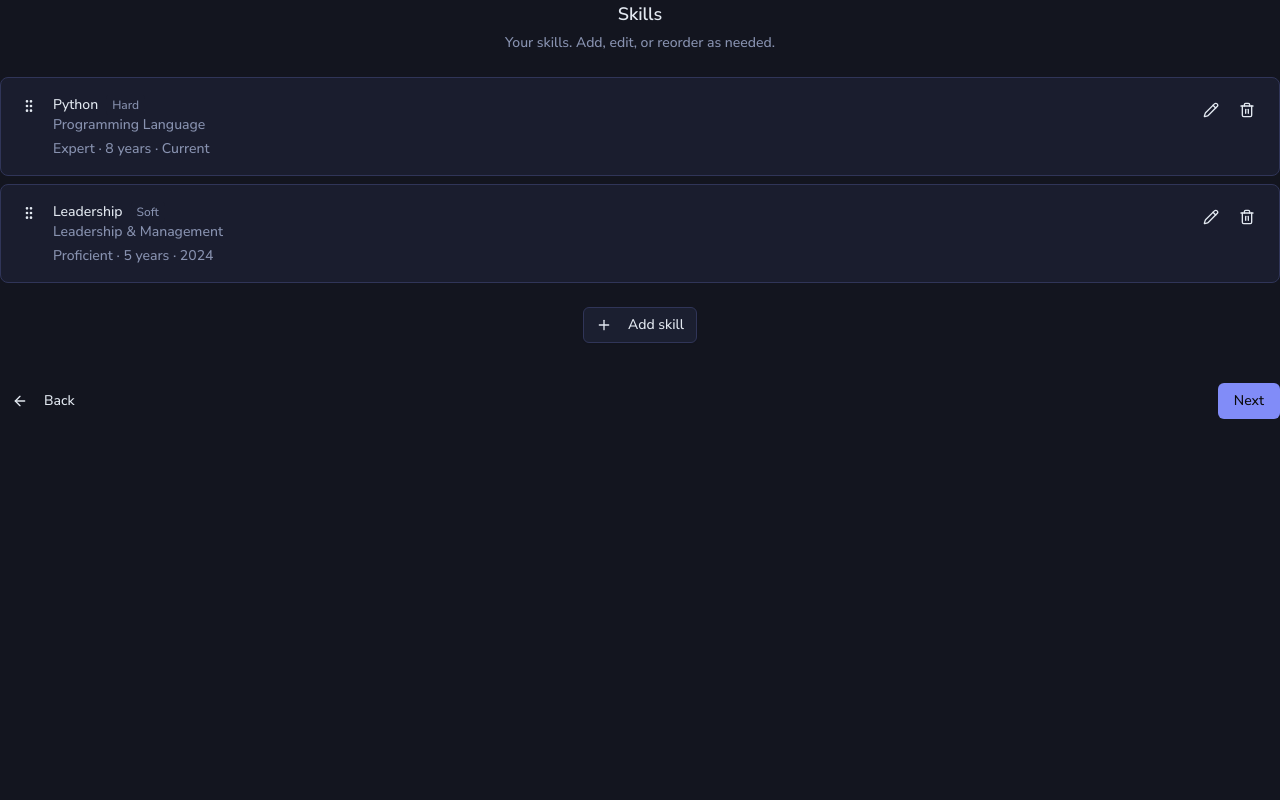
Test: SkillsStep › delete flow › deletes skill via DELETE on confirm
Click the button named "delete python". click: [1247, 110]
box: [1231,94,1263,126]
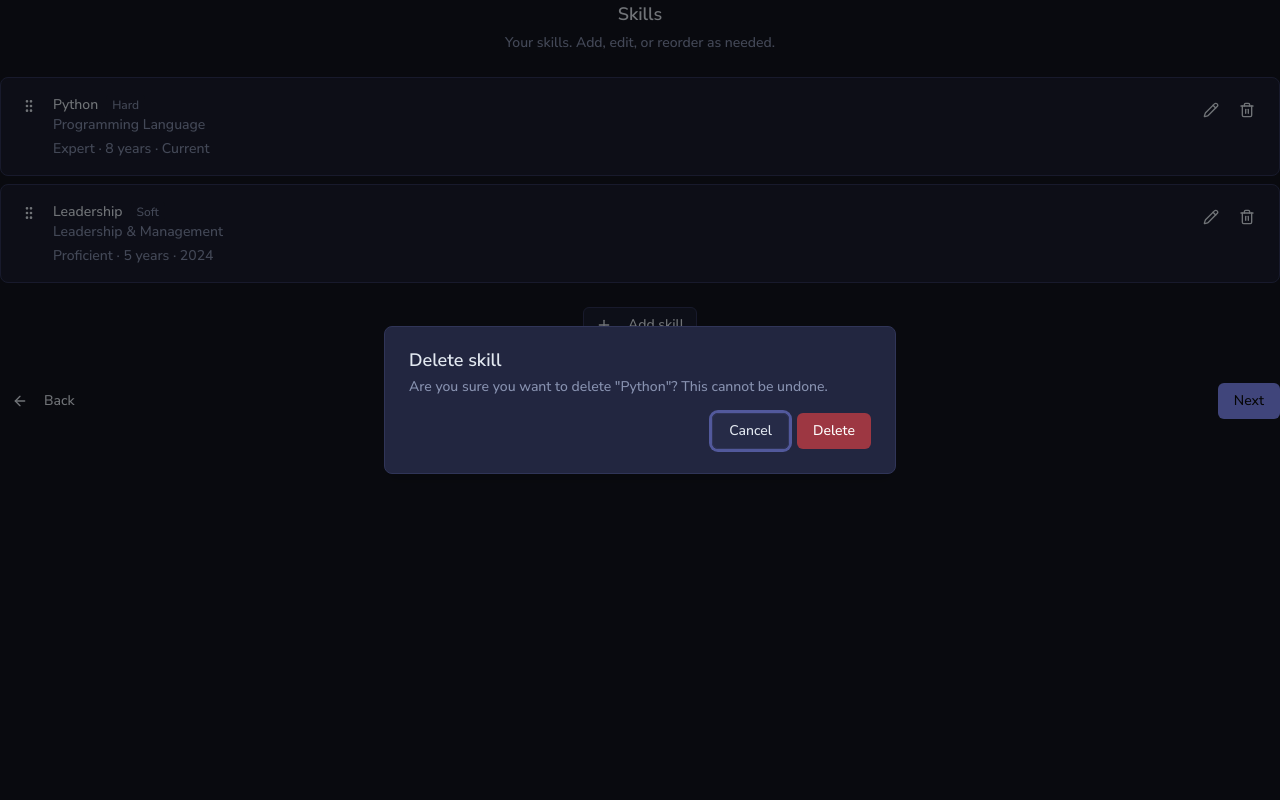
Click the button "Delete". click: [834, 431]
box: [797,413,871,449]
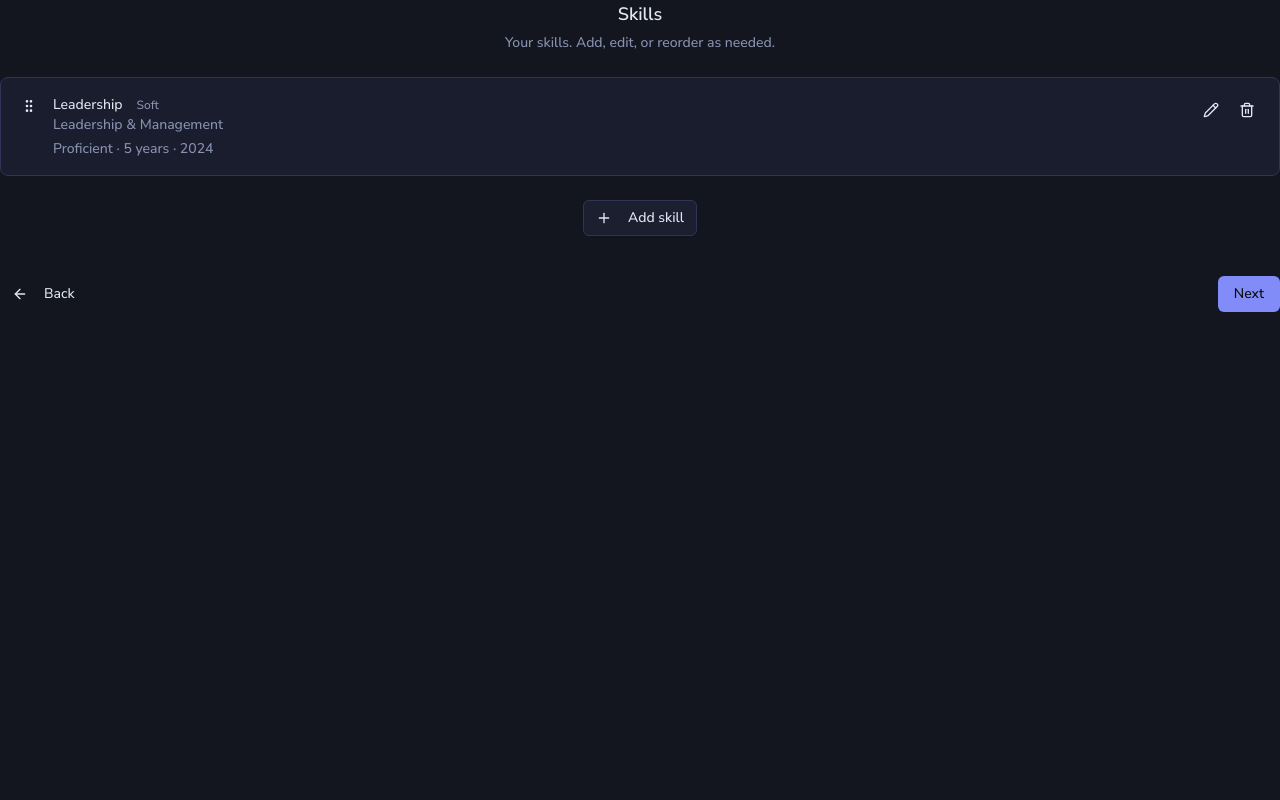
Result: the heading "Python" is gone
